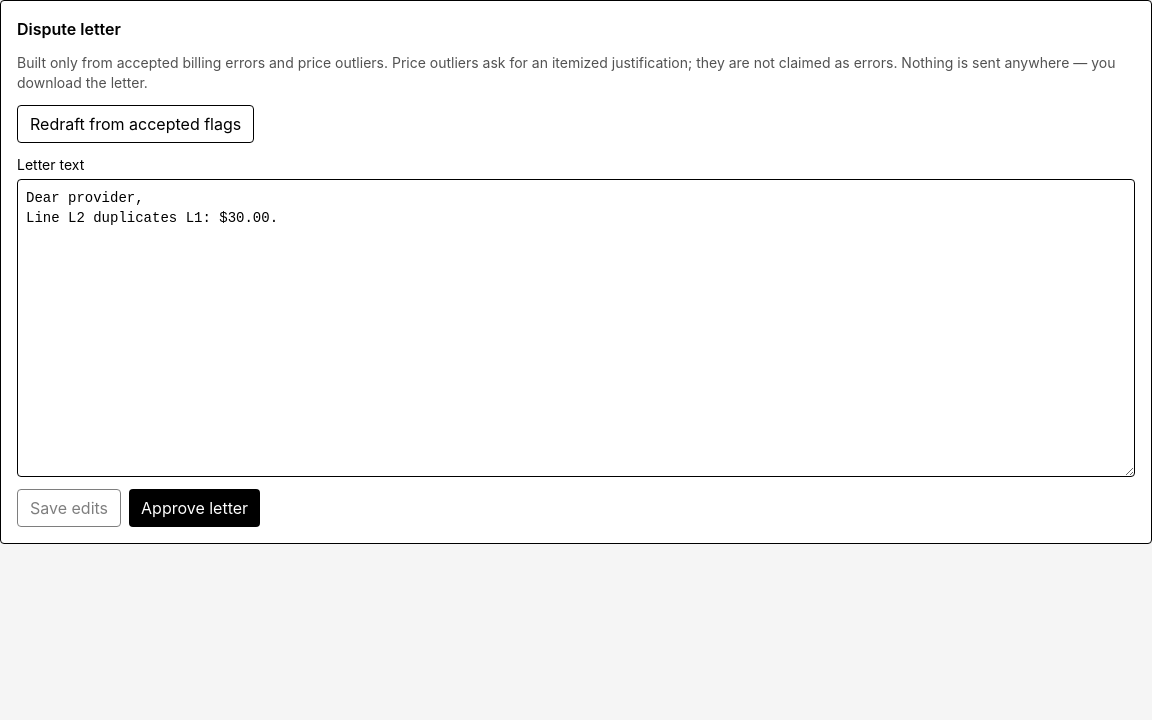
Test: redraft is disabled with a hint while there are unsaved edits
Check: the button "Redraft from accepted flags" is enabled, box [17, 105, 254, 143]
Type " more" into the text box labelled "Letter text" at [576, 328], box [17, 179, 1135, 477]
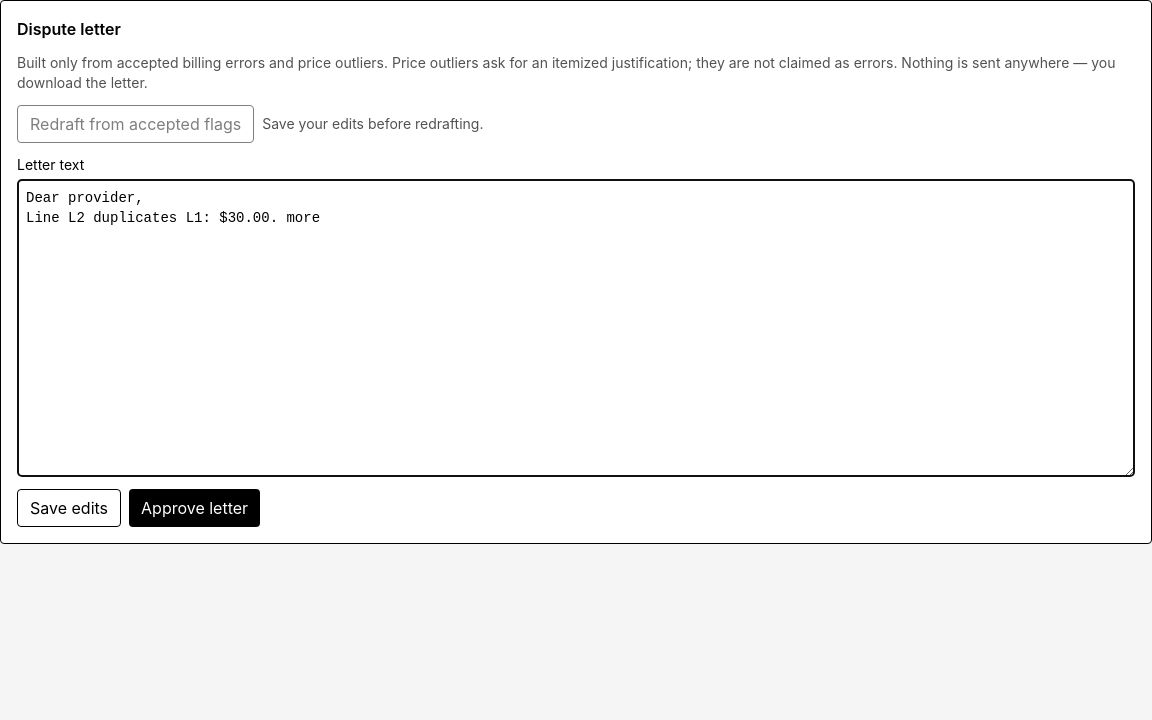
Check: the button "Redraft from accepted flags" is disabled, box [17, 105, 254, 143]
Check: the text "Save your edits before redrafting." is shown, box [262, 114, 483, 134]
